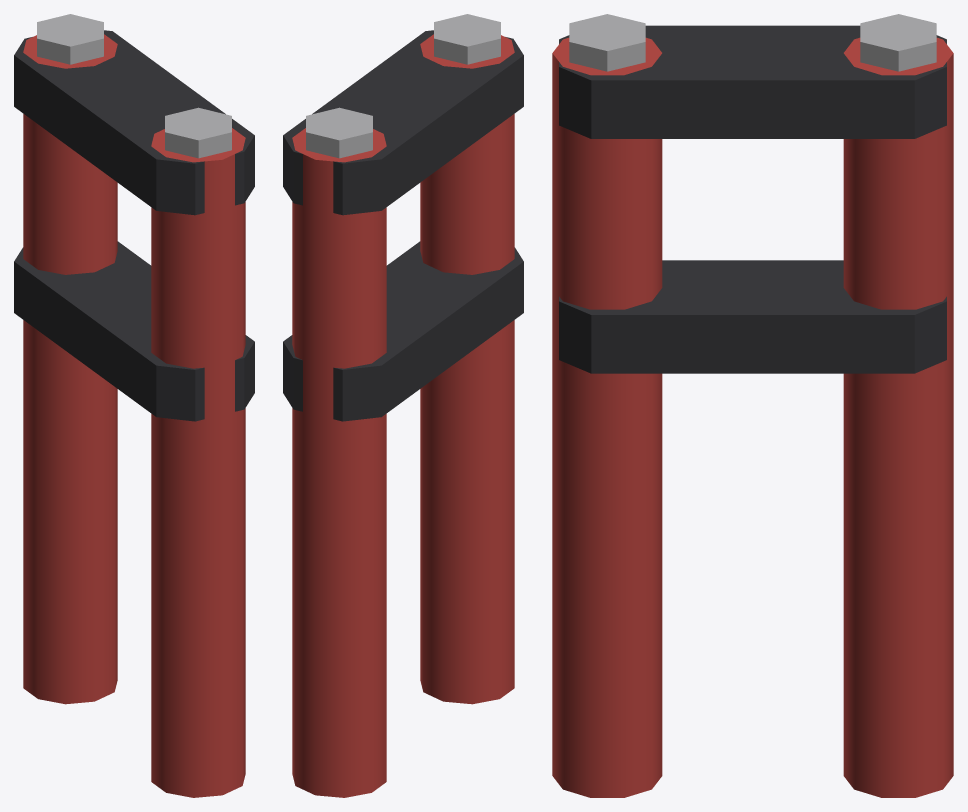
Rendered from scrambler_gold_usd_upper_lod1.glb.
3 views of the same model, side by side, from view 1: azimuth 30°, elevation 25°; view 2: azimuth 150°, elevation 25°; view 3: azimuth 270°, elevation 25° (orthographic). The views are drawn at different scales.
Visible parts, largest first — view 1: scrambler_gold_usd_upper_lod1; view 2: scrambler_gold_usd_upper_lod1; view 3: scrambler_gold_usd_upper_lod1.
Part boxes in pixels (x1,y1,x2,y2): scrambler_gold_usd_upper_lod1: [14, 14, 254, 797]; scrambler_gold_usd_upper_lod1: [283, 14, 523, 797]; scrambler_gold_usd_upper_lod1: [552, 14, 953, 797].
Size of the model in its own units: 0.08 by 0.507 by 0.248.
